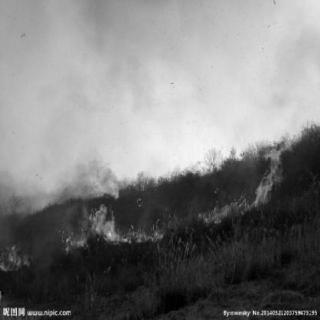Fire: (59, 165, 170, 257), (2, 235, 40, 272), (192, 198, 260, 218)
